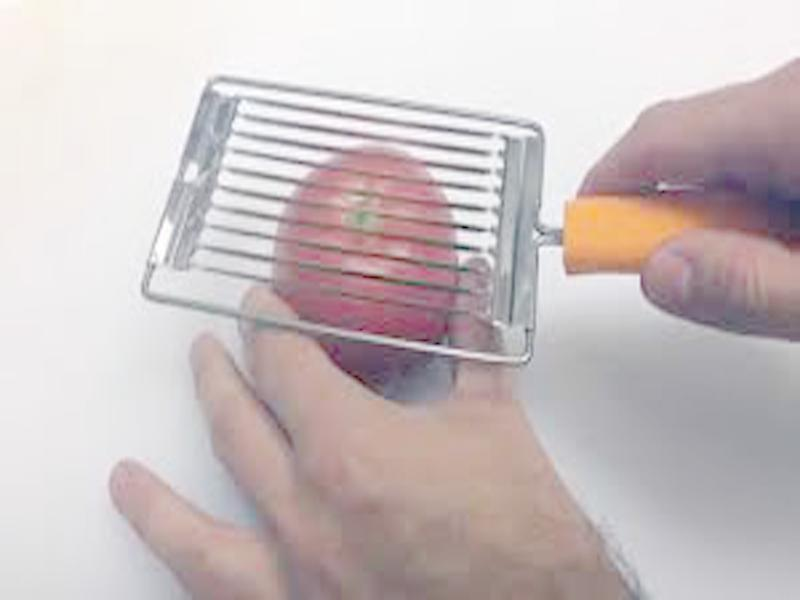Tomato: (277, 146, 461, 375)
